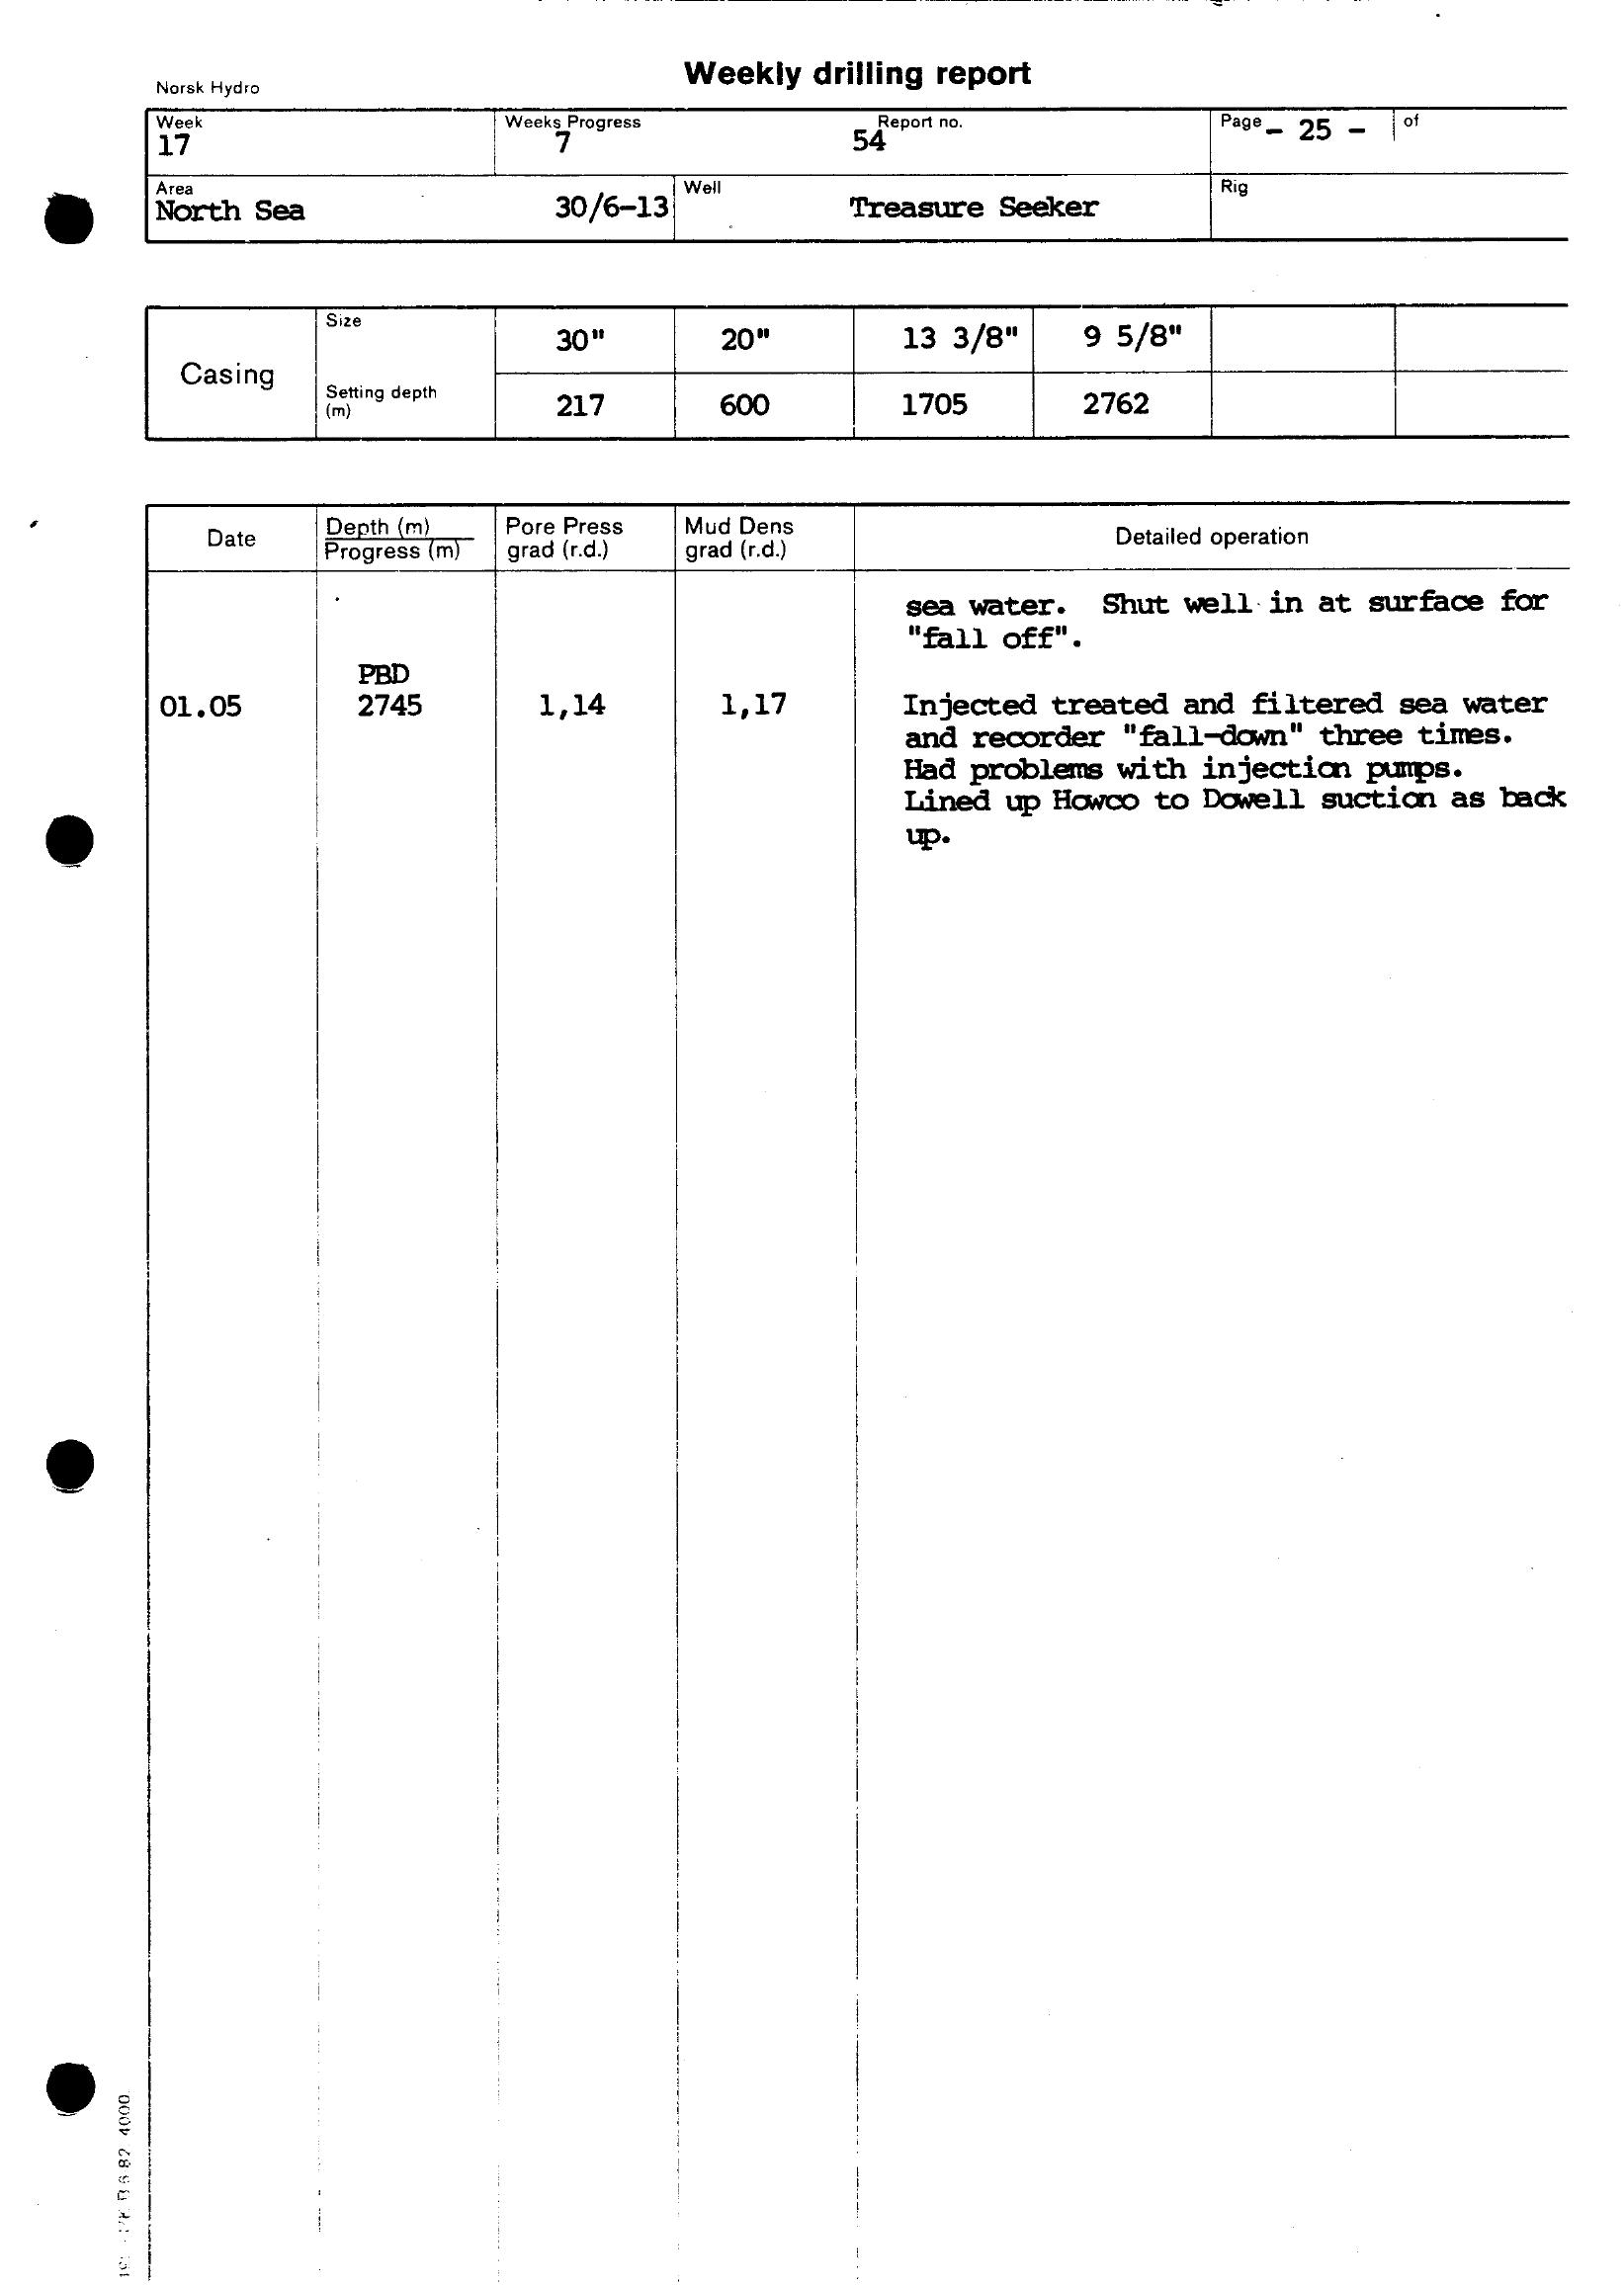graph: (130, 104, 1624, 952)
text: (668, 35, 1055, 111)
